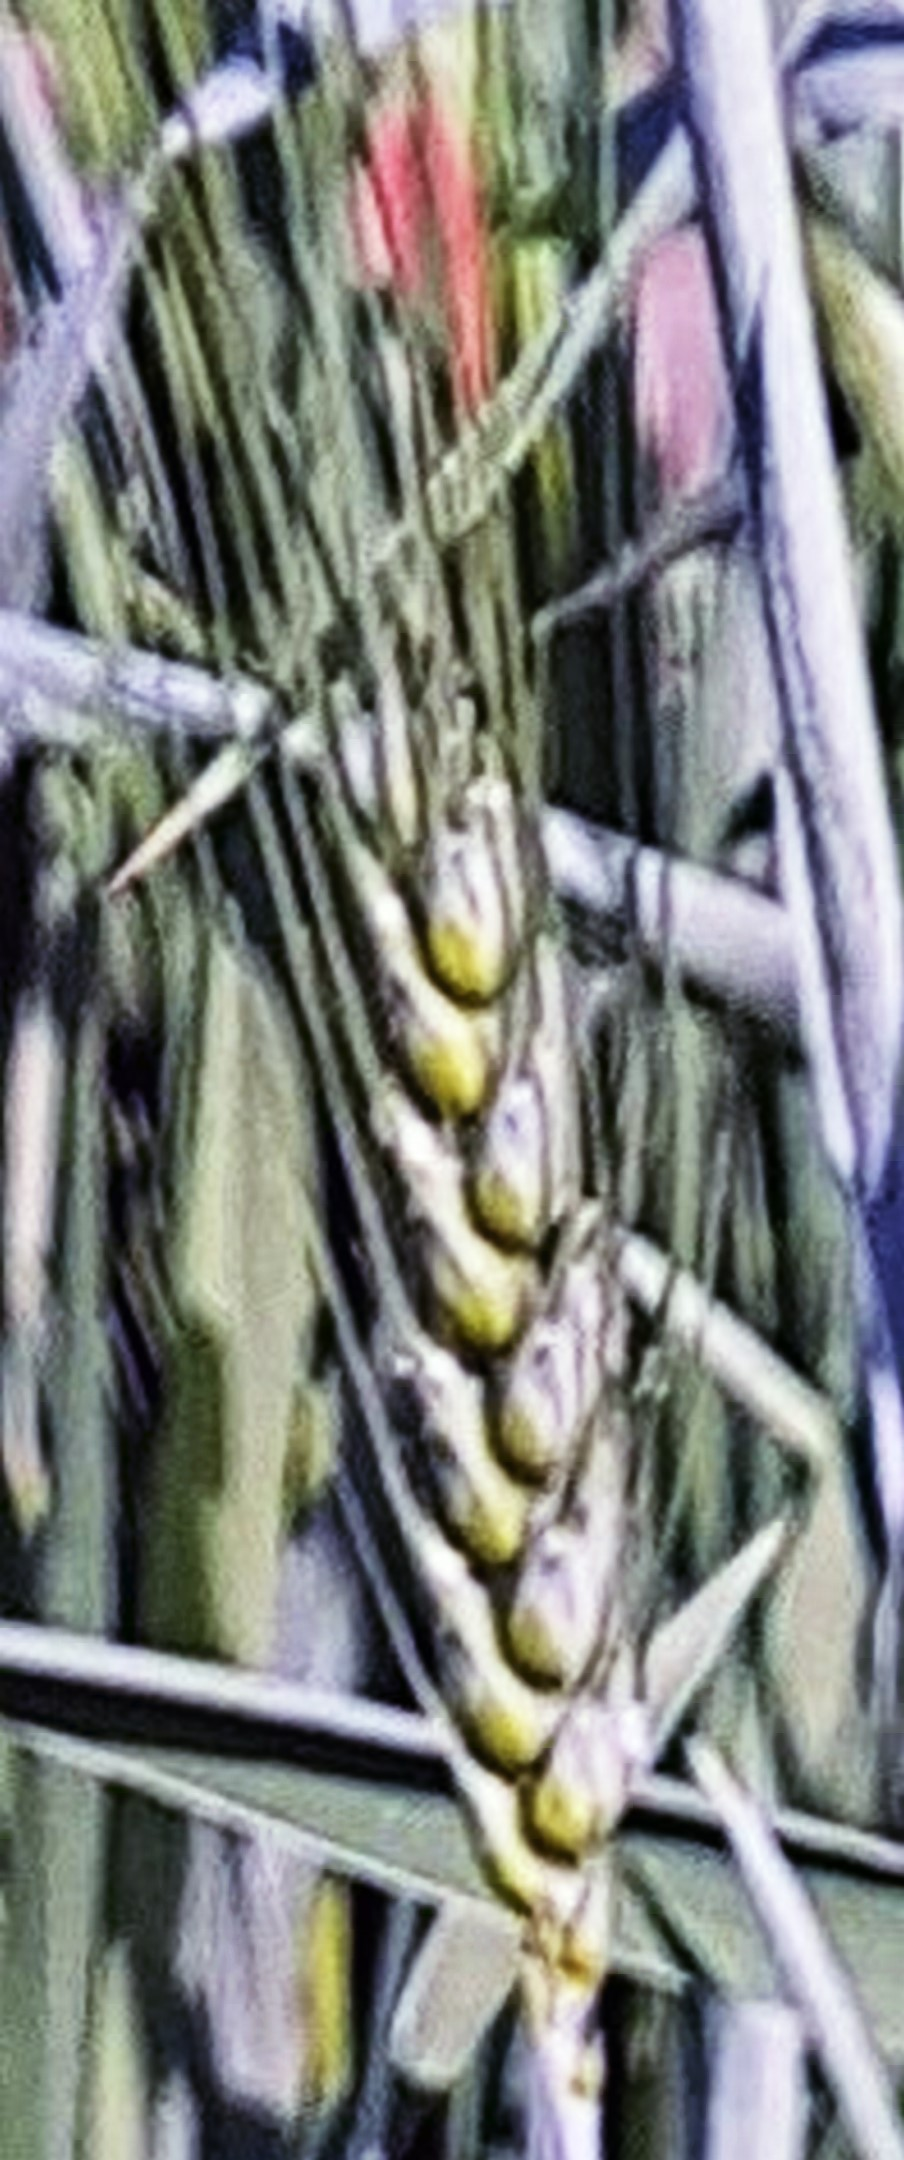Healthy Wheat: (300, 661, 765, 1901)
